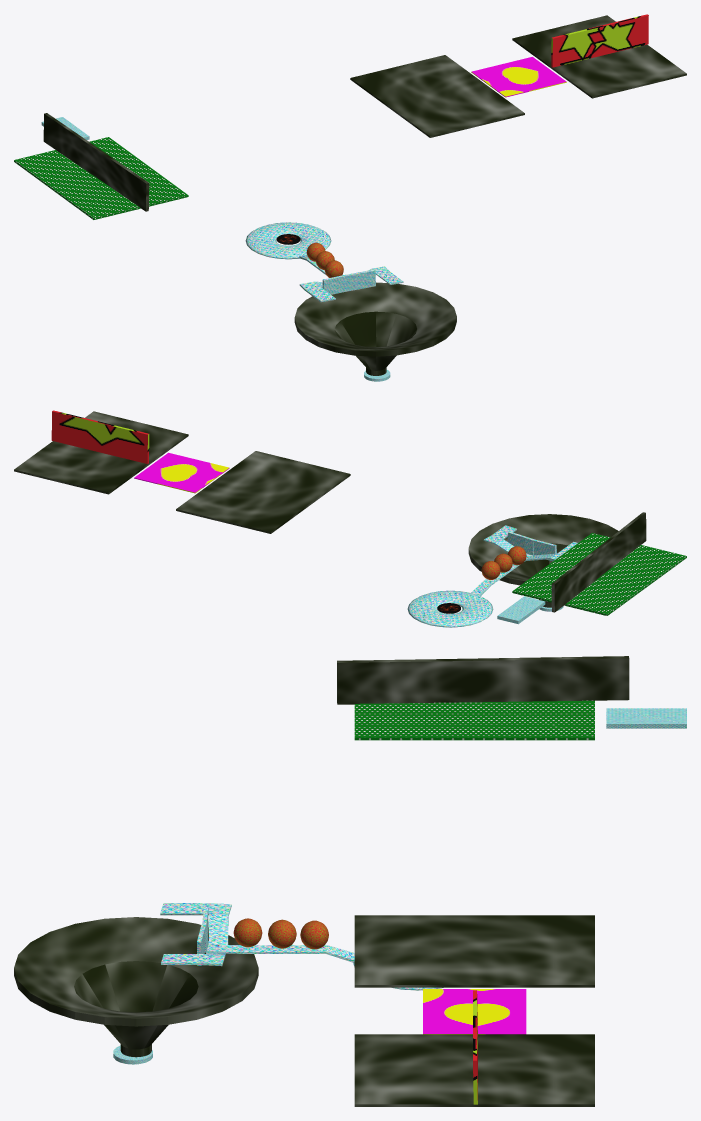
File: Level3.FBX
3 renders of one model, top to bottom at view 1: azimuth 30°, elevation 25°; view 2: azimuth 150°, elevation 25°; view 3: azimuth 270°, elevation 25°, orthographic. The views are drawn at different scales.
Parts seen in each view (by area): view 1: Cone001, Box001, Box002, Box006, Torus001, Box003, Box007, Box005; view 2: Box001, Box002, Box006, Cone001, Torus001, Box007, Box003, Box005, Box004; view 3: Cone001, Box001, Box006, Box003, Box002, Box005, Torus001, Box004.
Part boxes in pixels (left/top/right/bottom): Cone001: left=294, top=282, right=456, bottom=375; Box001: left=350, top=55, right=524, bottom=137; Box002: left=14, top=137, right=188, bottom=219; Box006: left=512, top=15, right=686, bottom=98; Torus001: left=245, top=222, right=403, bottom=302; Box003: left=43, top=113, right=149, bottom=211; Box007: left=551, top=14, right=648, bottom=67; Box005: left=471, top=57, right=566, bottom=97; Box001: left=176, top=451, right=350, bottom=533; Box002: left=512, top=533, right=686, bottom=615; Box006: left=14, top=411, right=188, bottom=494; Cone001: left=468, top=514, right=618, bottom=607; Torus001: left=407, top=525, right=577, bottom=627; Box007: left=51, top=410, right=149, bottom=463; Box003: left=551, top=512, right=646, bottom=612; Box005: left=134, top=452, right=229, bottom=493; Box004: left=497, top=596, right=545, bottom=624; Cone001: left=14, top=917, right=258, bottom=1057; Box001: left=354, top=915, right=594, bottom=987; Box006: left=354, top=1034, right=594, bottom=1106; Box003: left=337, top=656, right=629, bottom=704; Box002: left=354, top=700, right=594, bottom=740; Box005: left=423, top=989, right=526, bottom=1034; Torus001: left=160, top=903, right=443, bottom=990; Box004: left=606, top=708, right=686, bottom=728.
Bounding box in the file's own units: 1342 × 398 × 873.
Materials: 6 (6 with a texture image).
